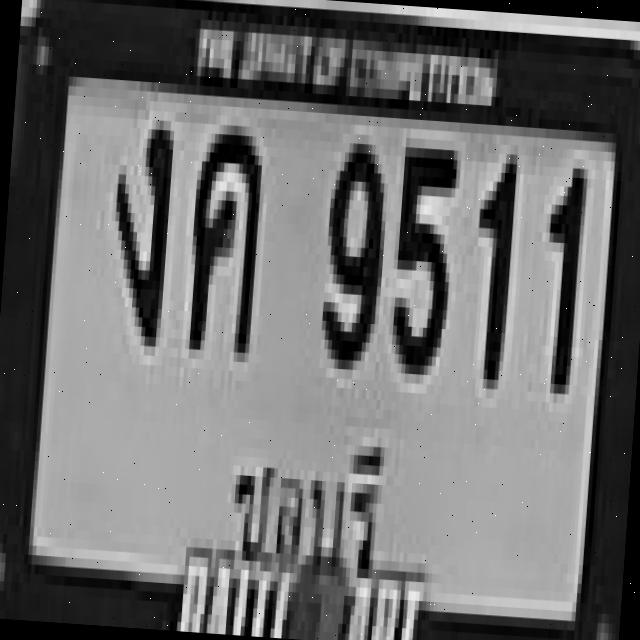1: (518, 118, 602, 448), (457, 120, 536, 433)
13KhorKhwai: (170, 98, 281, 378)
16NgorNgu: (98, 83, 182, 366)
5: (378, 107, 472, 390)
9: (306, 102, 402, 394)
Chonburi: (215, 407, 416, 633)
